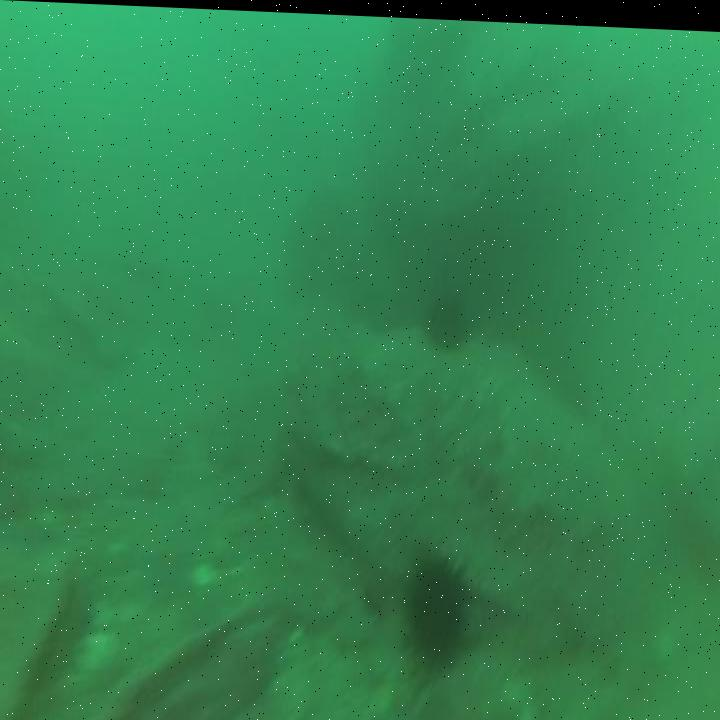echinus: (396, 531, 473, 681), (424, 280, 468, 349)
